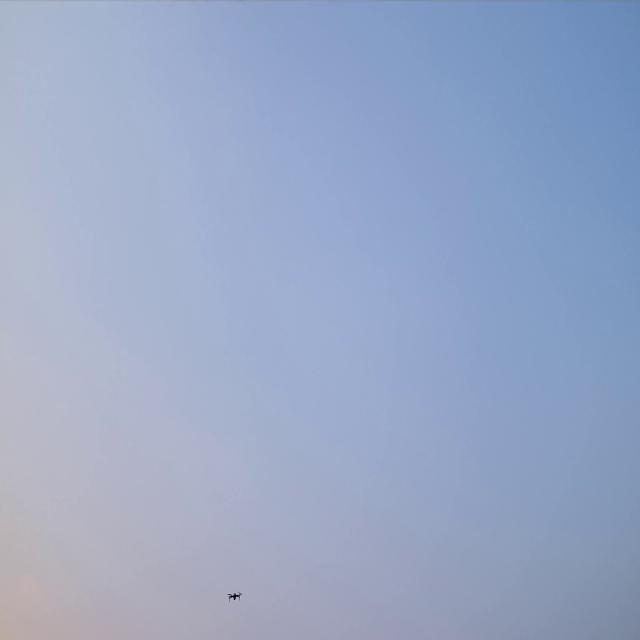UAV: (226, 590, 242, 602)
